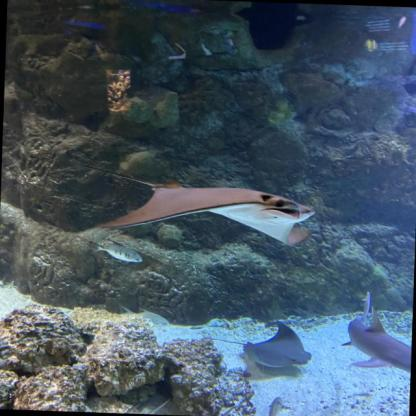fish: (93, 241, 142, 263), (266, 394, 288, 416)
shark: (338, 290, 413, 382)
stingray: (96, 173, 318, 249), (242, 318, 314, 369)
